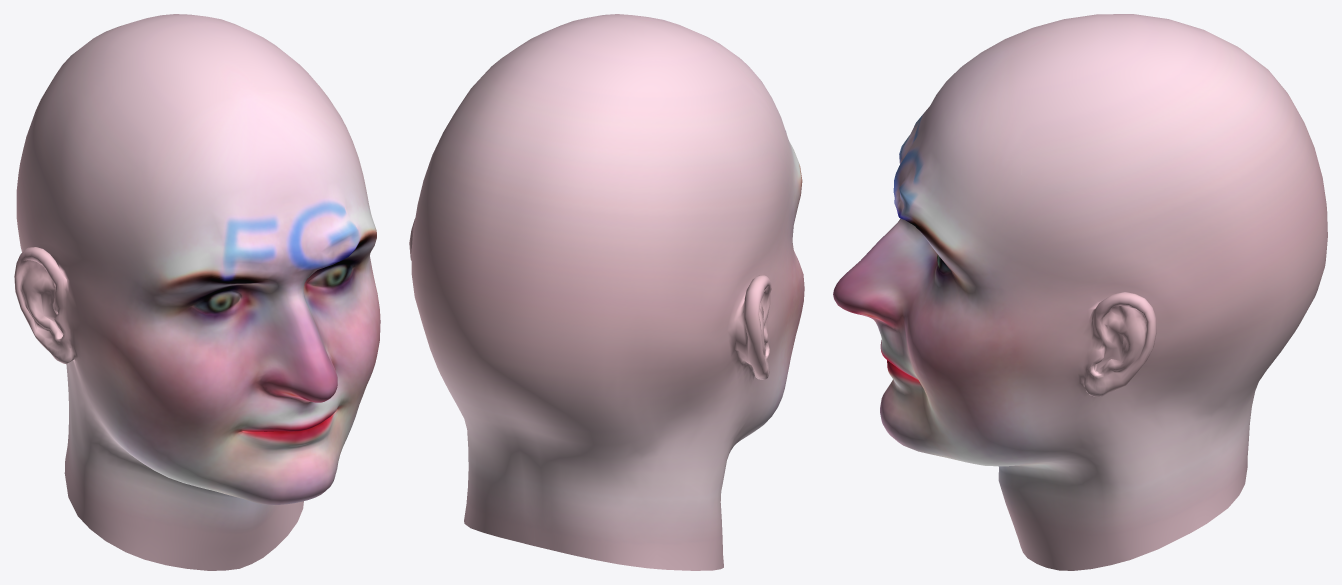
File: avg_anyrace_female_20.obj
3 renders of one model, left to right at view 1: azimuth 30°, elevation 25°; view 2: azimuth 150°, elevation 25°; view 3: azimuth 270°, elevation 25°, orthographic. The views are drawn at different scales.
Visible parts, largest first — view 1: HeadHires; view 2: HeadHires; view 3: HeadHires.
Part boxes in pixels (bbox=[...]): HeadHires: bbox=[14, 14, 380, 570]; HeadHires: bbox=[409, 14, 804, 570]; HeadHires: bbox=[833, 14, 1327, 570].
Bounding box in the file's own units: 192 × 283 × 245.
1 material, 1 textured.
